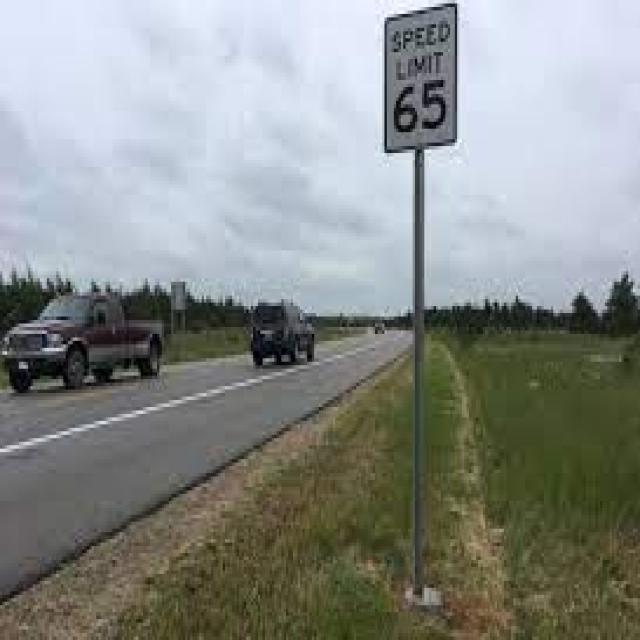speedLimit65: (389, 18, 450, 139)
